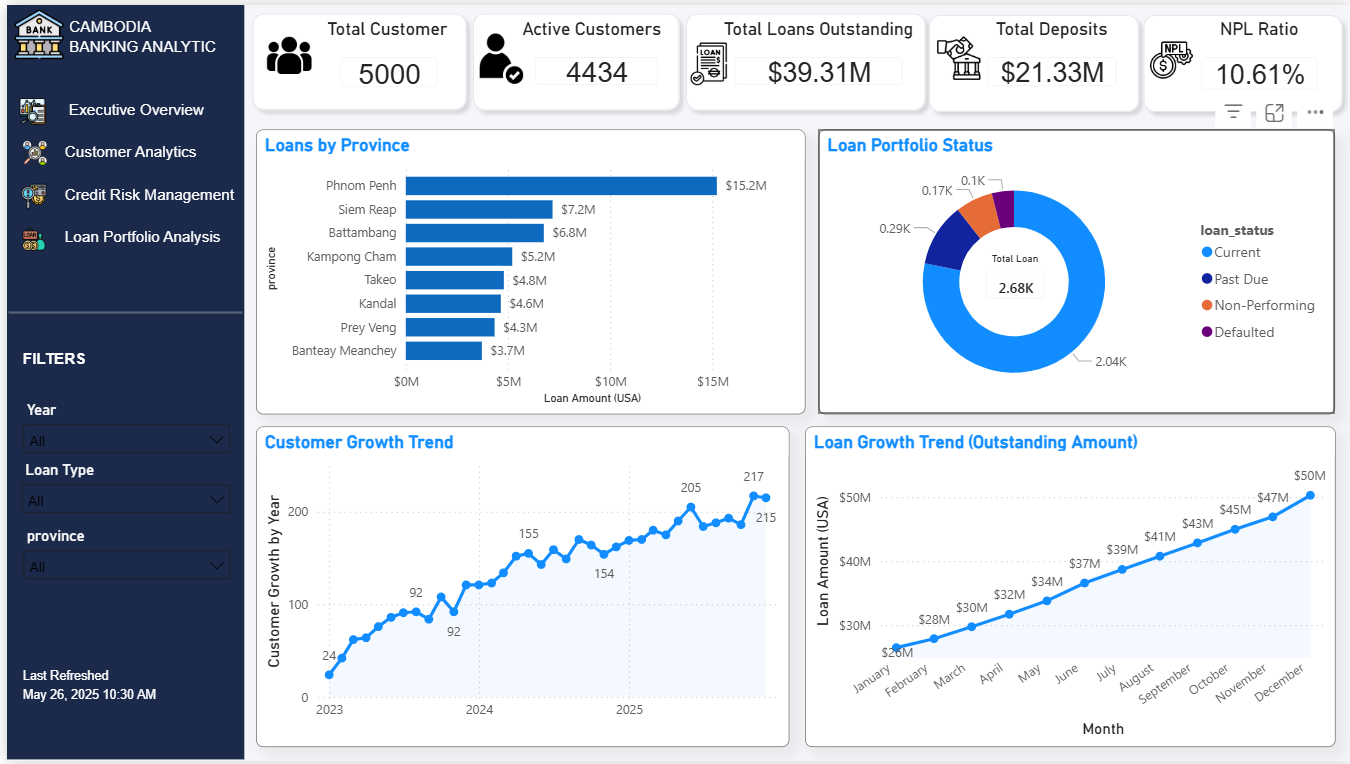

The page's visual inventory and layout, read from the dashboard file:
{"tool":"powerbi","page":{"name":"Executive Overview","canvas":[1280,720],"ordinal":0},"visuals":[{"type":"shape","box":[0.5,0,226,718.5],"z":0},{"type":"textbox","box":[54,6,168.5,48.5],"z":1000},{"type":"image","box":[0,4.3,61.4,47.1],"z":2000},{"type":"textbox","box":[50.8,84.6,143.8,33.8],"z":3000},{"type":"textbox","box":[50.6,123.8,147.5,33.1],"z":4000},{"type":"textbox","box":[50.4,166.1,185.7,33],"z":5000},{"type":"textbox","box":[50.6,206.2,186.2,33.8],"z":6000},{"type":"image","box":[8.1,128.1,36.2,24.4],"z":7000},{"type":"image","box":[8.1,170,33.8,24.4],"z":8000},{"type":"image","box":[0,88.1,49.4,25.6],"z":9000},{"type":"image","box":[10.6,211.9,31.2,22.5],"z":10000},{"type":"shape","box":[226.2,0,220,108.1],"z":11000},{"type":"cardVisual","title":"Total Customer","fields":{"Data":["Count(public customers.customer_id)"]},"box":[300.6,12.5,127.5,83.1],"z":12000},{"type":"image","box":[237.3,23.6,63.6,47.3],"z":13000},{"type":"shape","box":[436,0,212.8,108.4],"z":14000},{"type":"shape","box":[637.9,0,244.3,108.6],"z":15000},{"type":"shape","box":[870,1.7,216.1,108.3],"z":16000},{"type":"shape","box":[1074.5,1.5,205.5,108.5],"z":17000},{"type":"cardVisual","title":"Active Customers","fields":{"Data":["Count(public customers.customer_id)"]},"box":[486,12.4,151.6,81.2],"z":18000},{"type":"image","box":[438.9,27.2,64.4,47.8],"z":19000},{"type":"cardVisual","title":"Total Loans Outstanding","fields":{"Data":["Sum(public loans.outstanding_balance)"]},"box":[675.6,13.3,194.4,80.6],"z":20000},{"type":"image","box":[638.2,35.5,59.1,40.9],"z":21000},{"type":"cardVisual","title":"Total Deposits","fields":{"Data":["Sum(public accounts.current_balance)"]},"box":[915.7,12.9,158.6,81.4],"z":22000},{"type":"image","box":[877.1,29.3,58.6,41.4],"z":23000},{"type":"cardVisual","title":"NPL Ratio","fields":{"Data":["public accounts.NPL Ratio"]},"box":[1119.5,13,145,84.5],"z":24000},{"type":"image","box":[1080.5,31,58.5,42],"z":25000},{"type":"clusteredBarChart","title":"Loans by Province","fields":{"Category":["public customers.province"],"Y":["Sum(public loans.loan_amount)"]},"box":[236.9,118.1,523.1,271.2],"z":26000},{"type":"donutChart","title":"Loan Portfolio Status","fields":{"Category":["public loans.loan_status"],"Y":["CountNonNull(public loans.loan_id)"]},"box":[773,118,492,271],"z":27000},{"type":"cardVisual","title":"Total Loan","fields":{"Data":["CountNonNull(public loans.loan_status)"]},"box":[920,235.6,80,56.2],"z":28000},{"type":"lineChart","title":"Customer Growth Trend","fields":{"Y":["Count(public customers.customer_id)"],"Category":["public customers.join_date.Variation.Date Hierarchy.Year","public customers.join_date.Variation.Date Hierarchy.Month"]},"box":[237,402,508,305],"z":29000},{"type":"lineChart","title":"Loan Growth Trend (Outstanding Amount)","fields":{"Category":["public monthly_customer_snapshot.snapshot_date.Variation.Date Hierarchy.Month"],"Y":["Sum(public monthly_customer_snapshot.total_loan_balance)"]},"box":[760,401.7,505,305],"z":30000},{"type":"textbox","box":[10,623.3,206.7,48.3],"z":31000},{"type":"slicer","fields":{"Values":["public loans.loan_type"]},"box":[4.5,429.1,218.2,62.7],"z":32000},{"type":"slicer","fields":{"Values":["public customers.province"]},"box":[5.5,491.8,216.4,62.7],"z":33000},{"type":"slicer","fields":{"Values":["public customers.join_date.Variation.Date Hierarchy.Year"]},"box":[6.4,371.8,216.4,60.9],"z":34000},{"type":"shape","box":[1.4,264.3,222.9,57.1],"z":35000},{"type":"textbox","box":[10,321.4,185.7,34.3],"z":36000}]}

Visuals, with their boxes on the page's 1280x720 design canvas (x1, y1, x2, y2). These are canvas units, not pixel positions in the 1350x764 screenshot, which may show the page scaled, cropped or inside an application window:
shape: pyautogui.locateOnScreen(0, 0, 226, 718)
textbox: pyautogui.locateOnScreen(54, 6, 222, 54)
image: pyautogui.locateOnScreen(0, 4, 61, 51)
textbox: pyautogui.locateOnScreen(51, 85, 195, 118)
textbox: pyautogui.locateOnScreen(51, 124, 198, 157)
textbox: pyautogui.locateOnScreen(50, 166, 236, 199)
textbox: pyautogui.locateOnScreen(51, 206, 237, 240)
image: pyautogui.locateOnScreen(8, 128, 44, 152)
image: pyautogui.locateOnScreen(8, 170, 42, 194)
image: pyautogui.locateOnScreen(0, 88, 49, 114)
image: pyautogui.locateOnScreen(11, 212, 42, 234)
shape: pyautogui.locateOnScreen(226, 0, 446, 108)
"Total Customer" cardVisual: pyautogui.locateOnScreen(301, 12, 428, 96)
image: pyautogui.locateOnScreen(237, 24, 301, 71)
shape: pyautogui.locateOnScreen(436, 0, 649, 108)
shape: pyautogui.locateOnScreen(638, 0, 882, 109)
shape: pyautogui.locateOnScreen(870, 2, 1086, 110)
shape: pyautogui.locateOnScreen(1074, 2, 1280, 110)
"Active Customers" cardVisual: pyautogui.locateOnScreen(486, 12, 638, 94)
image: pyautogui.locateOnScreen(439, 27, 503, 75)
"Total Loans Outstanding" cardVisual: pyautogui.locateOnScreen(676, 13, 870, 94)
image: pyautogui.locateOnScreen(638, 36, 697, 76)
"Total Deposits" cardVisual: pyautogui.locateOnScreen(916, 13, 1074, 94)
image: pyautogui.locateOnScreen(877, 29, 936, 71)
"NPL Ratio" cardVisual: pyautogui.locateOnScreen(1120, 13, 1264, 98)
image: pyautogui.locateOnScreen(1080, 31, 1139, 73)
"Loans by Province" clusteredBarChart: pyautogui.locateOnScreen(237, 118, 760, 389)
"Loan Portfolio Status" donutChart: pyautogui.locateOnScreen(773, 118, 1265, 389)
"Total Loan" cardVisual: pyautogui.locateOnScreen(920, 236, 1000, 292)
"Customer Growth Trend" lineChart: pyautogui.locateOnScreen(237, 402, 745, 707)
"Loan Growth Trend (Outstanding Amount)" lineChart: pyautogui.locateOnScreen(760, 402, 1265, 707)
textbox: pyautogui.locateOnScreen(10, 623, 217, 672)
slicer - public loans.loan_type: pyautogui.locateOnScreen(4, 429, 223, 492)
slicer - public customers.province: pyautogui.locateOnScreen(6, 492, 222, 554)
slicer - public customers.join_date.Variation.Date Hierarchy.Year: pyautogui.locateOnScreen(6, 372, 223, 433)
shape: pyautogui.locateOnScreen(1, 264, 224, 321)
textbox: pyautogui.locateOnScreen(10, 321, 196, 356)
